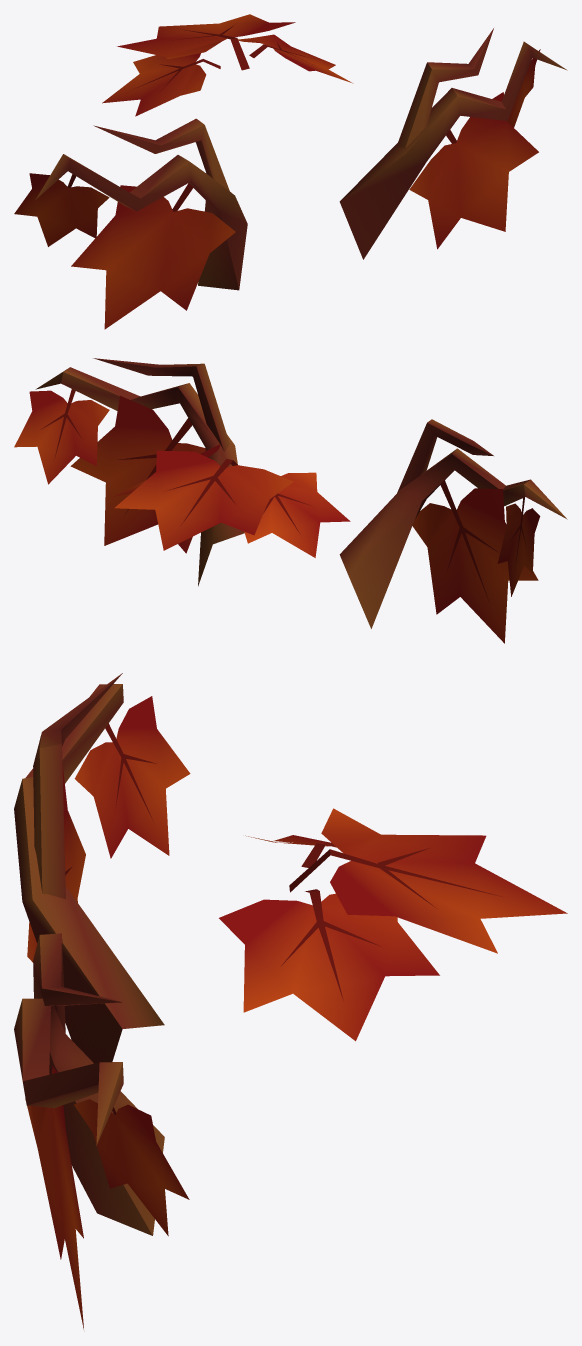
Rendered from hat_premium_Fall.glb.
The picture shows the model from 3 angles, top to bottom: view 1: azimuth 30°, elevation 25°; view 2: azimuth 150°, elevation 25°; view 3: azimuth 270°, elevation 25°; orthographic projection. The views are drawn at different scales.
Visible parts, largest first — view 1: hat_premium_Fall; view 2: hat_premium_Fall; view 3: hat_premium_Fall.
Part boxes in pixels (bbox=[...]): hat_premium_Fall: bbox=[14, 14, 567, 329]; hat_premium_Fall: bbox=[14, 358, 567, 643]; hat_premium_Fall: bbox=[14, 673, 567, 1329].
Bounding box in the file's own units: 0.8716 × 0.3065 × 0.4665.
